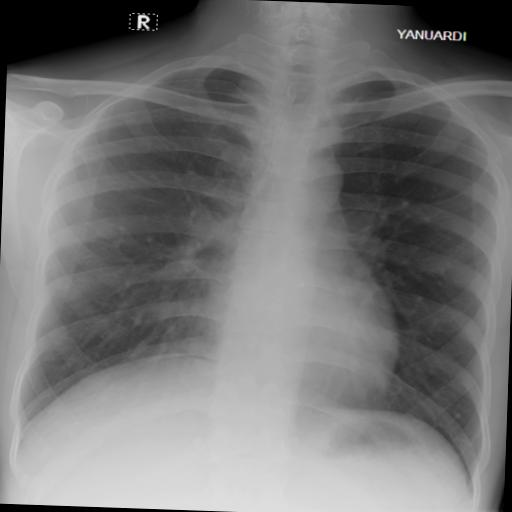normal: (0, 12, 510, 501)
